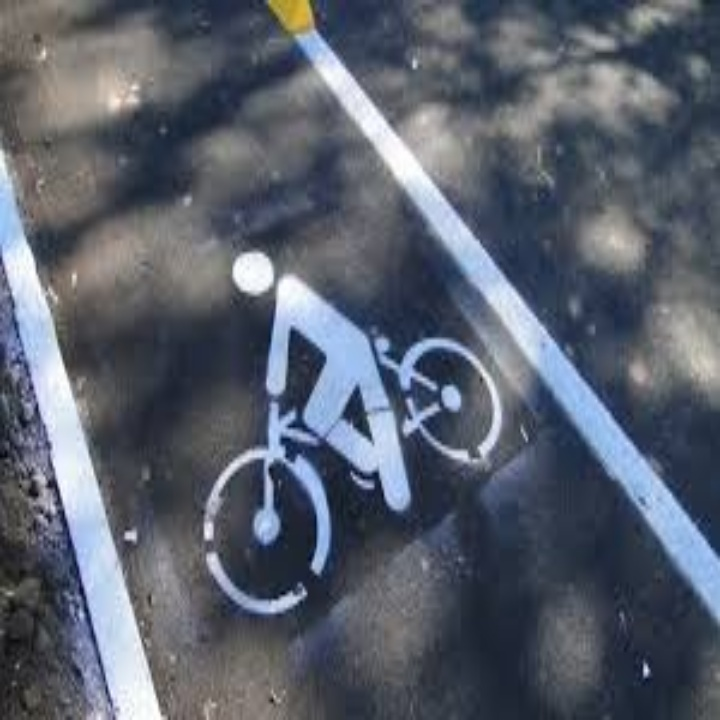bicycle: (197, 335, 501, 613)
